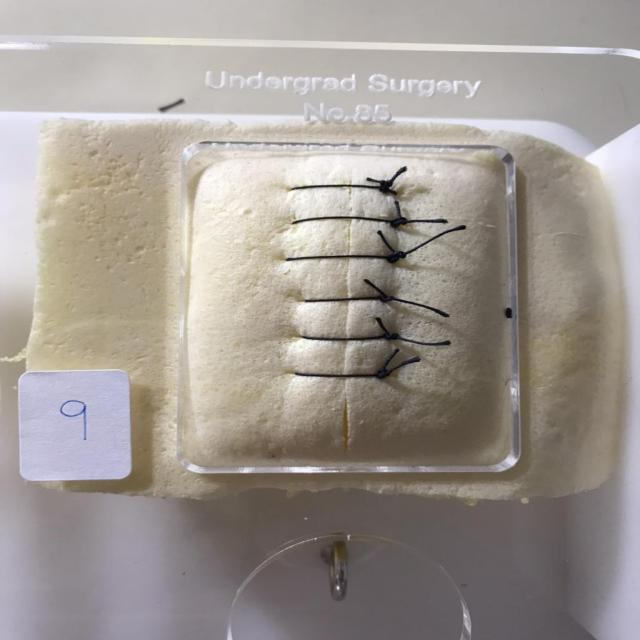knot: (386, 252, 406, 263), (391, 217, 407, 228), (380, 180, 392, 193), (376, 369, 390, 379), (385, 333, 399, 340), (380, 296, 393, 302)
leftover: (395, 223, 468, 259), (385, 296, 451, 318), (378, 354, 421, 377), (386, 333, 453, 347), (379, 164, 408, 191), (375, 346, 400, 377), (375, 228, 400, 259), (361, 277, 390, 300), (373, 315, 392, 338), (364, 176, 385, 191), (397, 218, 449, 224), (393, 199, 403, 224)
stitch: (288, 183, 399, 196), (289, 215, 409, 226), (283, 254, 407, 262), (299, 332, 400, 341), (302, 295, 395, 303), (291, 372, 390, 377)
wound: (341, 171, 355, 443)
